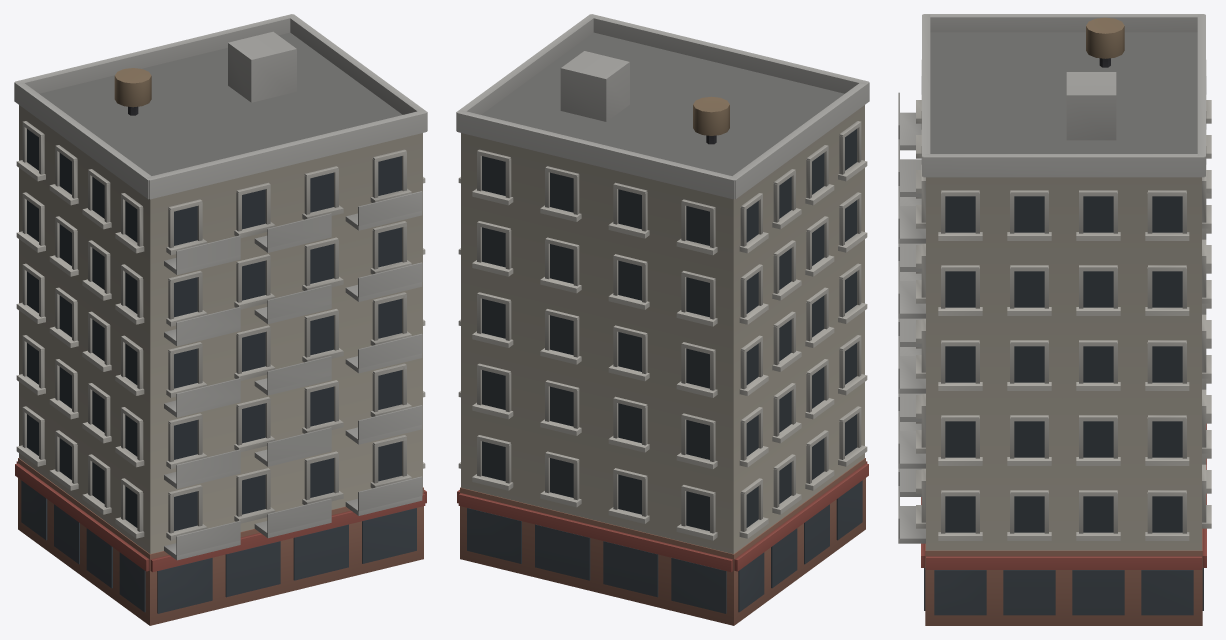
The model's file is block_modern_1.glb.
3 renders of one model, left to right at view 1: azimuth 30°, elevation 25°; view 2: azimuth 150°, elevation 25°; view 3: azimuth 270°, elevation 25°, orthographic. The views are drawn at different scales.
Parts seen in each view (by area): view 1: Body_Detail, Body_Wall; view 2: Body_Detail, Body_Wall; view 3: Body_Detail, Body_Wall.
Boxes of the visible parts, bbox=[...] form: Body_Detail: bbox=[14, 14, 427, 625]; Body_Wall: bbox=[19, 105, 422, 553]; Body_Detail: bbox=[456, 14, 869, 625]; Body_Wall: bbox=[461, 105, 864, 553]; Body_Detail: bbox=[898, 14, 1211, 625]; Body_Wall: bbox=[926, 177, 1201, 550].
Bounding box in the file's own units: 1.27 × 2 × 1.14.
